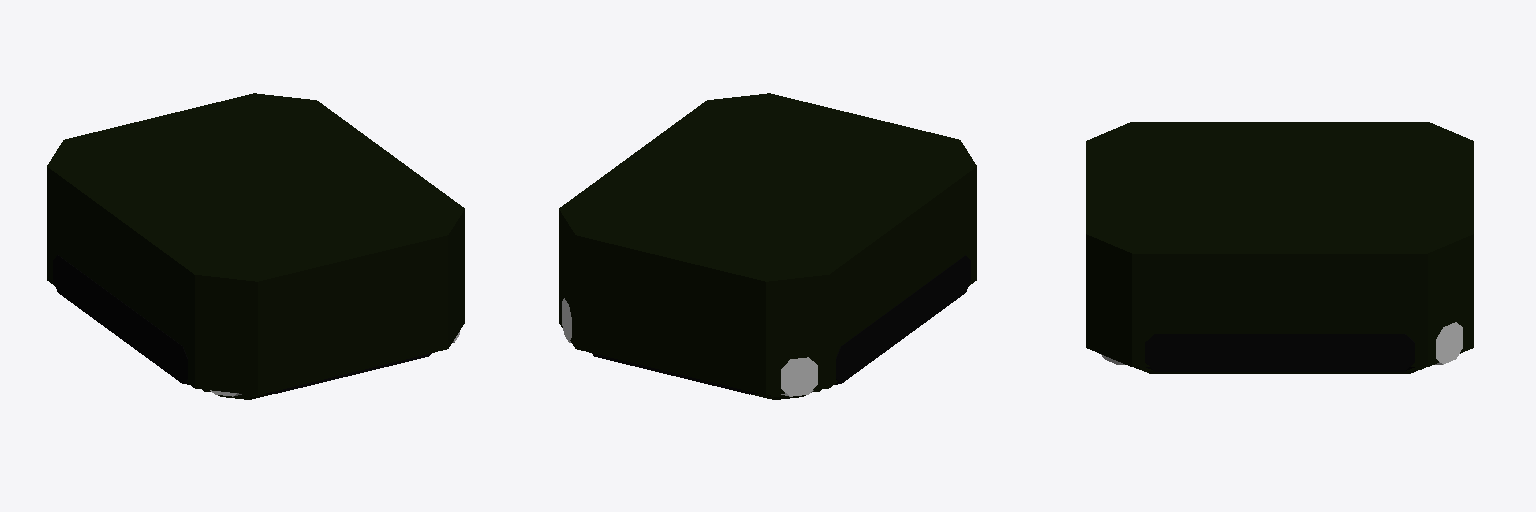
The model's file is teleporting_launcher_collider.obj.
The picture shows the model from 3 angles: view 1: azimuth 30°, elevation 25°; view 2: azimuth 150°, elevation 25°; view 3: azimuth 270°, elevation 25°; orthographic projection.
Visible parts, largest first — view 1: Body.001, Body; view 2: Body.001, Body; view 3: Body.001, Body.
Boxes of the visible parts, x1=… form: Body.001: x1=47, y1=93, x2=464, y2=395; Body: x1=53, y1=255, x2=459, y2=399; Body.001: x1=559, y1=93, x2=976, y2=395; Body: x1=562, y1=255, x2=970, y2=399; Body.001: x1=1086, y1=122, x2=1473, y2=366; Body: x1=1101, y1=322, x2=1462, y2=373.
Bounding box in the file's own units: 4.99 × 2.41 × 6.18.